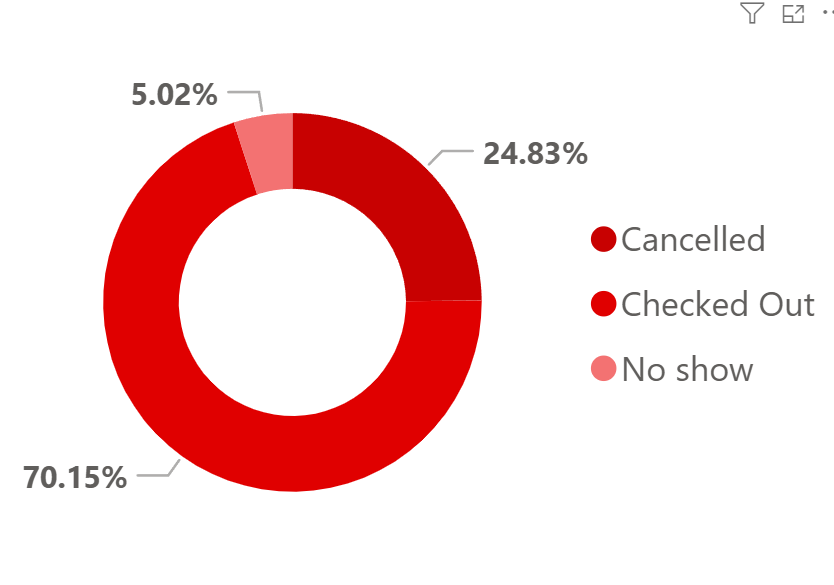

The page's visual inventory and layout, read from the dashboard file:
{"tool":"powerbi","page":{"name":"TOOLTIP","canvas":[341,242],"ordinal":1},"visuals":[{"type":"donutChart","fields":{"Y":["Metrics.TOTAL CANCELLED","Metrics.Total Checked Out","Metrics.Total No show"]},"box":[0,0,341,242],"z":0}]}

Visuals, with their boxes in screenshot pixels (x1, y1, x2, y2), scaled from the page's 341x242 canvas onto the 834x585 screenshot:
donutChart - Metrics.TOTAL CANCELLED x Metrics.Total Checked Out: (left=0, top=0, right=833, bottom=584)
